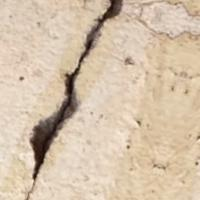crack: (14, 0, 128, 199)
